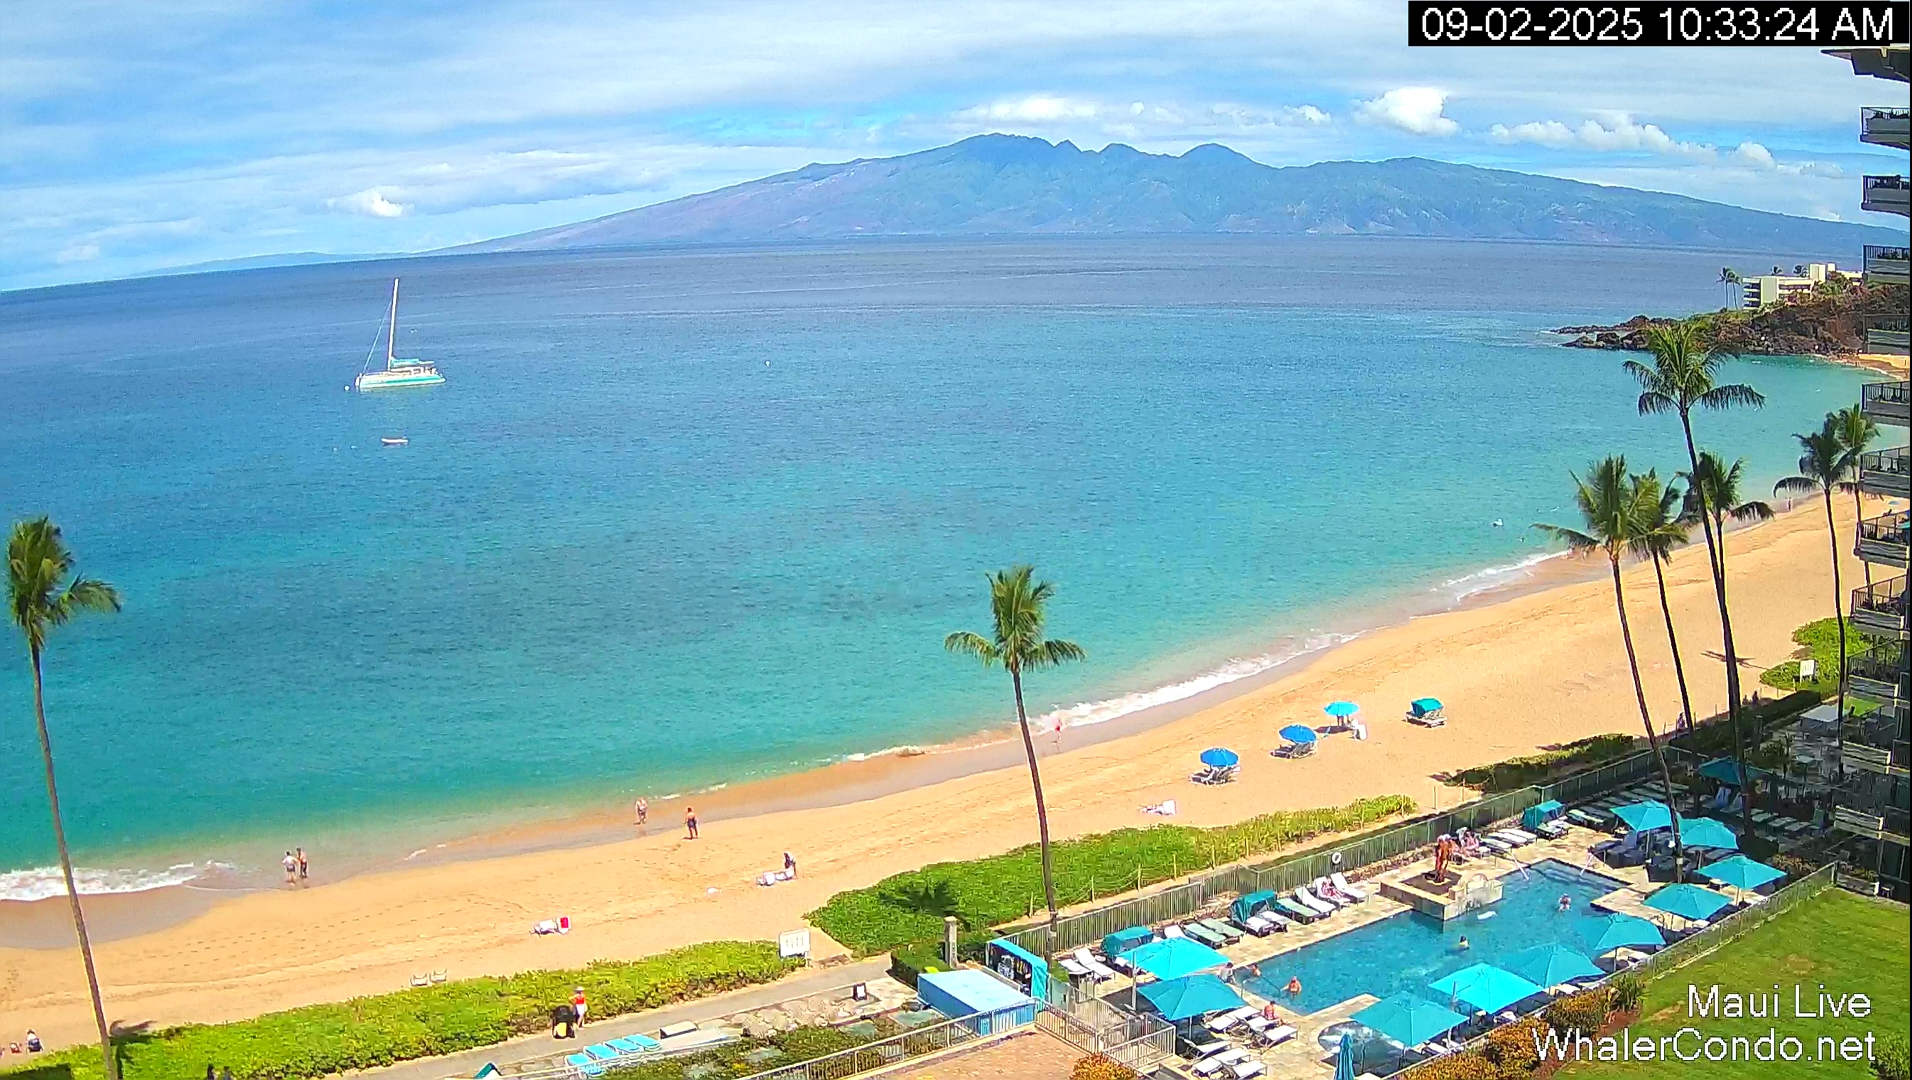boat: (354, 277, 446, 391), (474, 1033, 640, 1080), (564, 1033, 640, 1078), (1099, 924, 1152, 975)
person: (568, 986, 588, 1029), (282, 850, 300, 884), (1280, 976, 1302, 1002), (683, 806, 699, 839), (25, 1029, 44, 1054), (1263, 1000, 1282, 1023), (295, 846, 308, 879), (783, 851, 797, 879), (552, 1024, 576, 1039), (635, 798, 648, 825), (1558, 893, 1571, 912), (9, 1042, 23, 1054), (634, 798, 640, 824), (1752, 691, 1759, 710)
